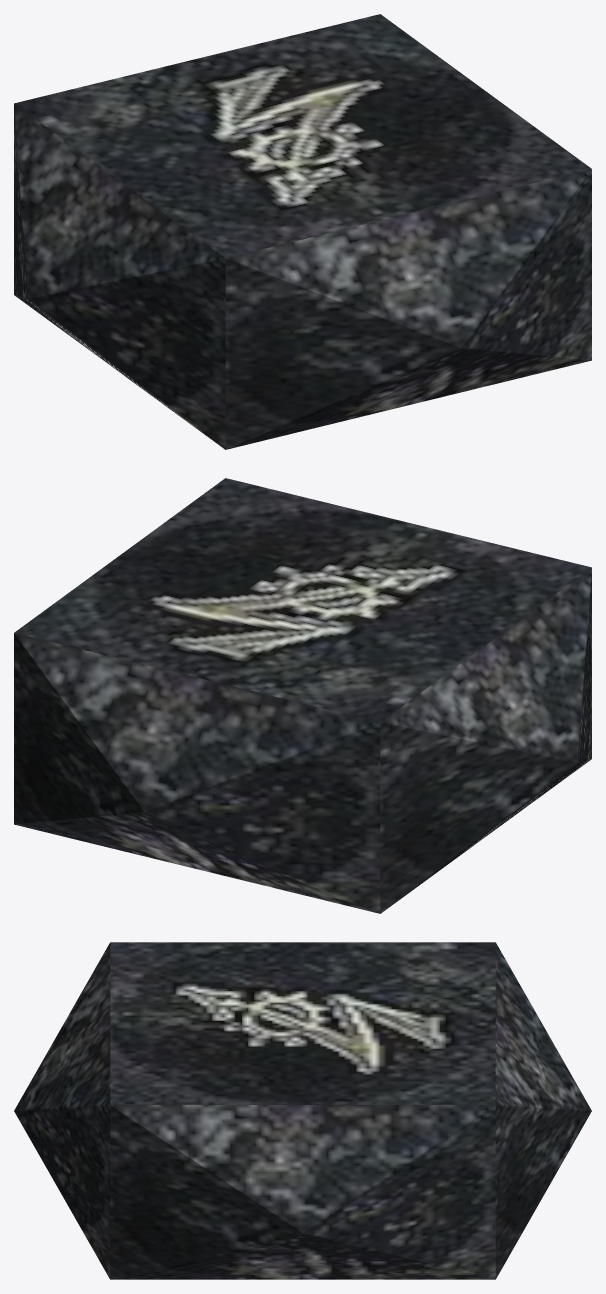
The model's file is ITRU_THUNDERBALL.glb.
3 views of the same model, one above another, from view 1: azimuth 30°, elevation 25°; view 2: azimuth 150°, elevation 25°; view 3: azimuth 270°, elevation 25° (orthographic). The views are drawn at different scales.
Parts seen in each view (by area): view 1: ITRU_THUNDERBALL; view 2: ITRU_THUNDERBALL; view 3: ITRU_THUNDERBALL.
Part boxes in pixels (box(x1,y1,x2,y2)): ITRU_THUNDERBALL: box(14, 14, 591, 449); ITRU_THUNDERBALL: box(14, 478, 591, 913); ITRU_THUNDERBALL: box(14, 942, 591, 1279).
Bounding box in the file's own units: 0.27 × 0.09 × 0.27.
1 material, 1 textured.
